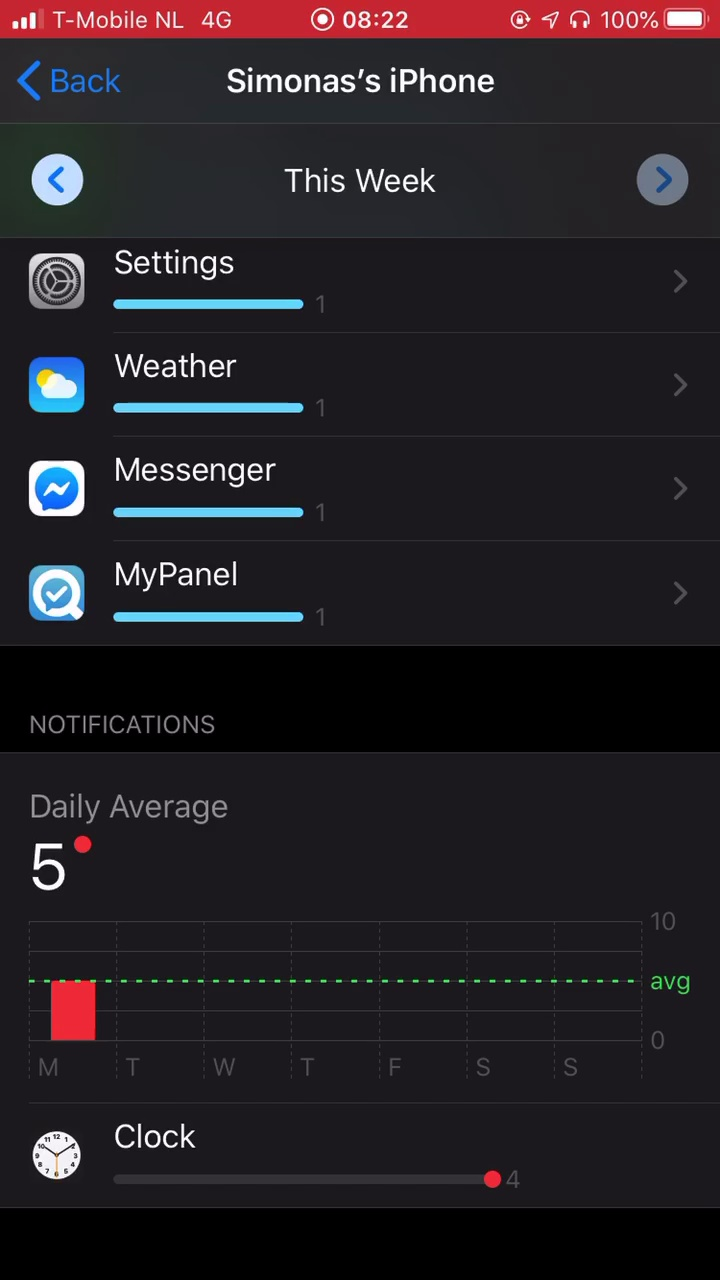not_app: (26, 1107, 559, 1216)
not_over: (25, 703, 275, 910)
pick_app: (20, 336, 361, 427), (21, 439, 339, 532), (26, 555, 346, 639), (20, 247, 354, 322)
week: (262, 150, 458, 214)
